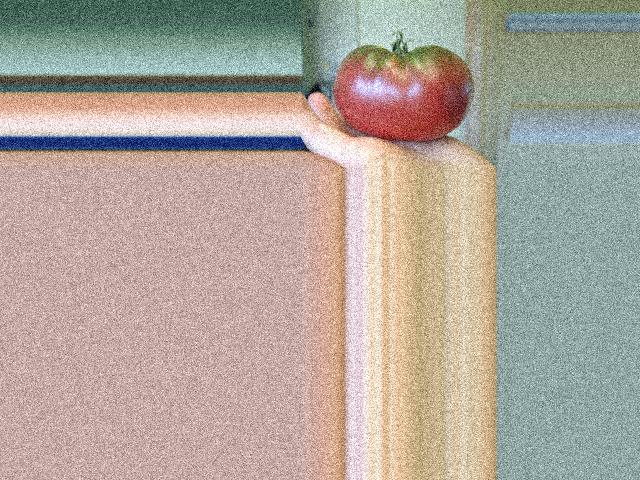tomato: (333, 44, 474, 141)
